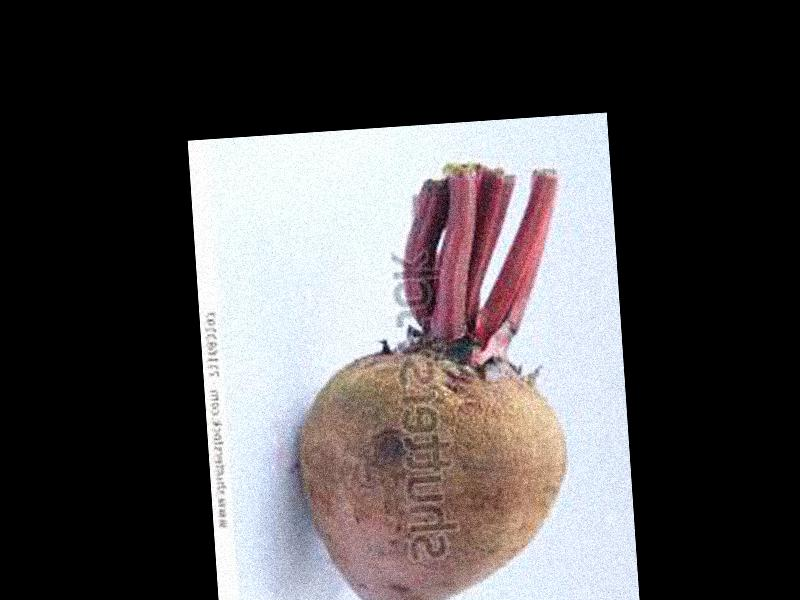Beet: (282, 166, 581, 600)
